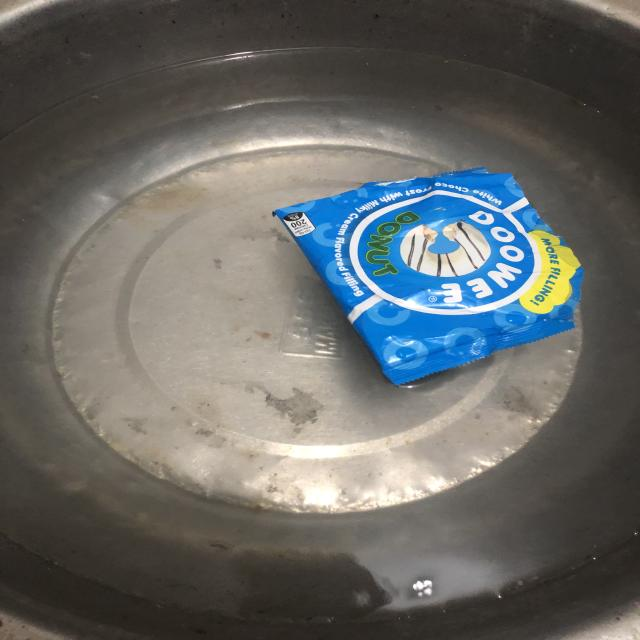Plastic Wrapper: (274, 168, 584, 384)
